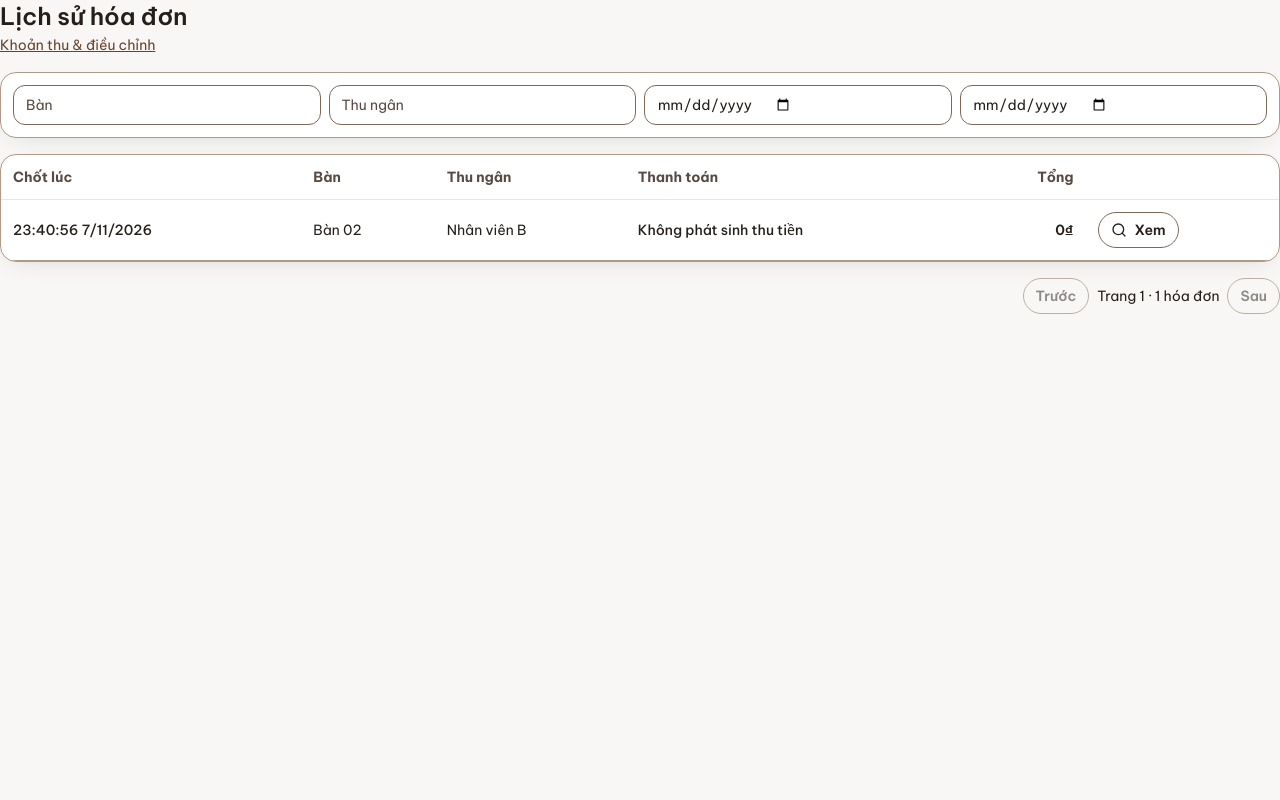
Test: invoice payment presentation › explains an empty zero-value closed session instead of labelling it unknown
Check: the text "Không phát sinh thu tiền" is shown, box [638,221,803,239]
Check: the column heading "Chốt lúc" is shown, box [1,155,301,200]
Step 1. Click the button "Xem" → (1138, 230), box [1098,212,1178,248]
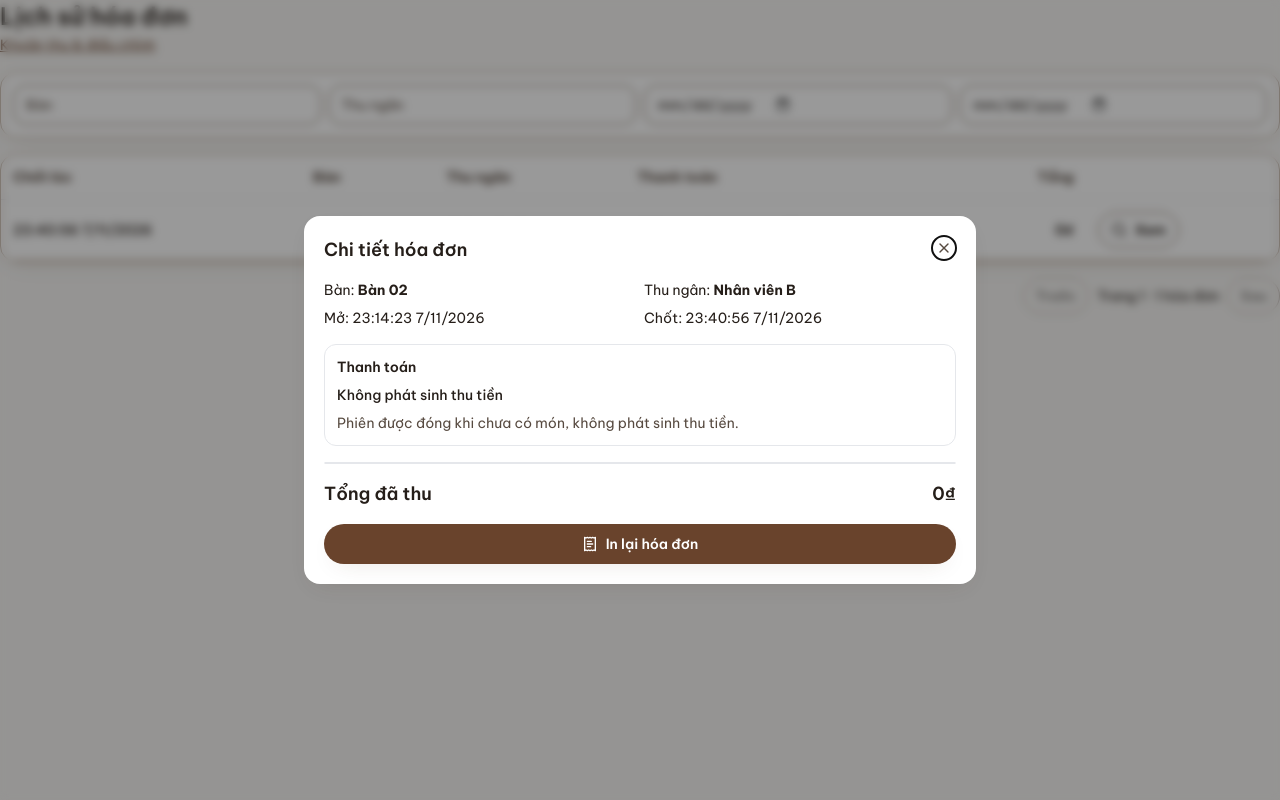
Check: the text "Phiên được đóng khi chưa có món, không phát sinh thu tiền." is shown, box [337,414,739,432]
